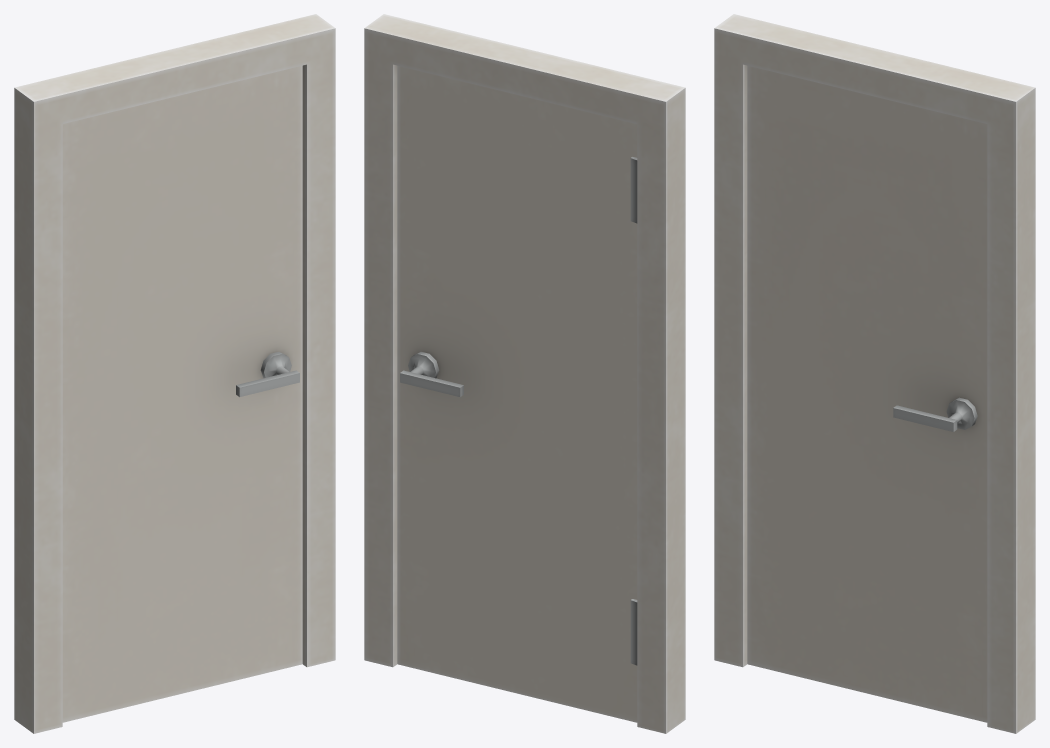
File: sb_obj_ModernCity050_office_door_a.fbx
3 views of the same model, side by side, from view 1: azimuth 30°, elevation 25°; view 2: azimuth 150°, elevation 25°; view 3: azimuth 330°, elevation 25° (orthographic).
Visible parts, largest first — view 1: door_a, sb_obj_ModernCity050_office_door_a; view 2: door_a, sb_obj_ModernCity050_office_door_a; view 3: door_a, sb_obj_ModernCity050_office_door_a.
Part boxes in pixels (x1,y1,x2,y2): door_a: [62, 65, 302, 722]; sb_obj_ModernCity050_office_door_a: [14, 14, 335, 733]; door_a: [397, 65, 637, 722]; sb_obj_ModernCity050_office_door_a: [364, 14, 685, 733]; door_a: [747, 65, 987, 722]; sb_obj_ModernCity050_office_door_a: [714, 14, 1035, 733].
Bounding box in the file's own units: 0.9996 × 2 × 0.2659.
1 material, 1 textured.
